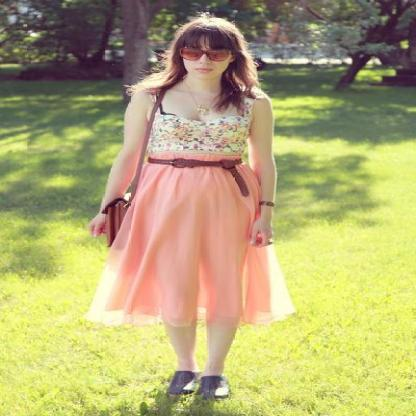bag: (102, 193, 131, 246)
shirt: (148, 125, 250, 161)
shoe: (164, 371, 227, 404)
skirt: (84, 162, 296, 330)
